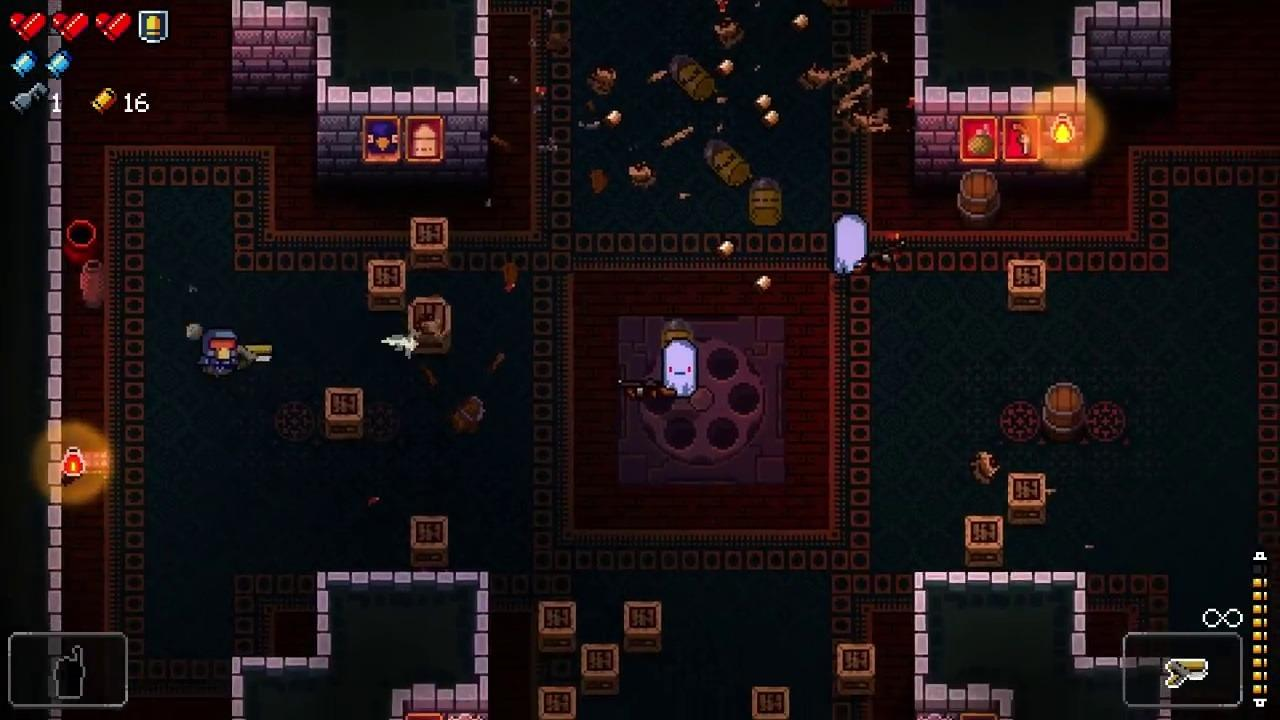dead_bullet_kin: (704, 137, 754, 186), (670, 54, 719, 102), (749, 176, 782, 227)
hollowpoint: (662, 337, 699, 399), (833, 213, 870, 275)
player: (201, 327, 240, 377)
teleporter: (616, 314, 787, 484)
